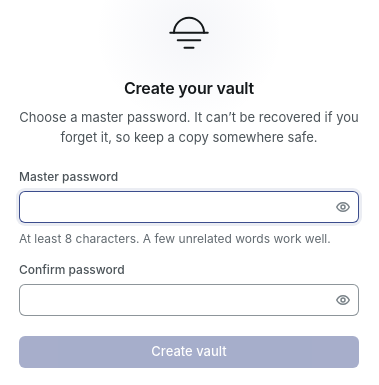
Test case: CreatePasswordScreen › keeps Create vault disabled until the passwords are long enough and match
This screenshot has width=379, height=385.
Type "short" into the password field labelled "Master password" at (175, 207), box [19,191,331,223]
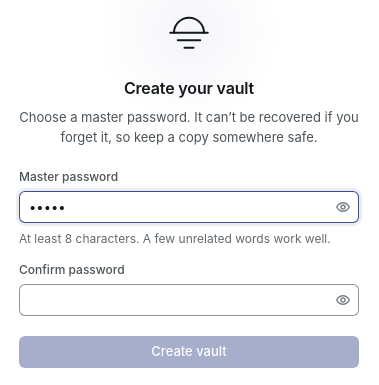
Type "short" into the password field labelled "Confirm password" at (175, 300), box [19,284,331,316]
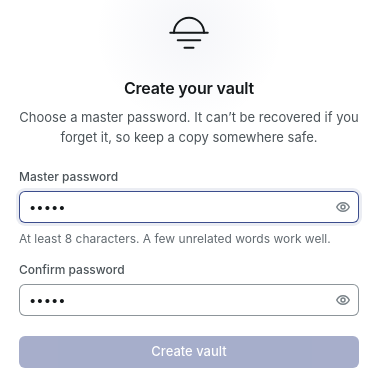
Expected: the button "Create vault" is disabled, [19,336,359,368]
Type "long-enough" into the password field labelled "Master password" at (175, 207), box [19,191,331,223]
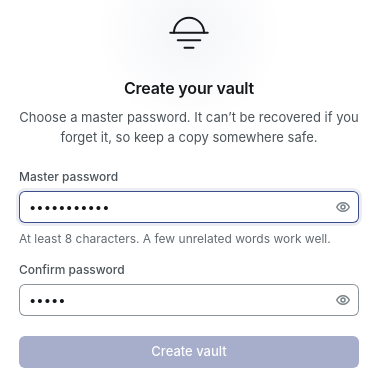
Type "long-enough" into the password field labelled "Confirm password" at (175, 300), box [19,284,331,316]
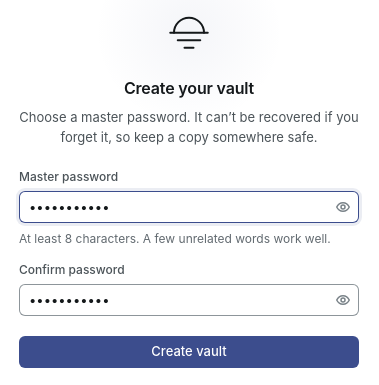
Now the button "Create vault" is enabled, box [19,336,359,368]
